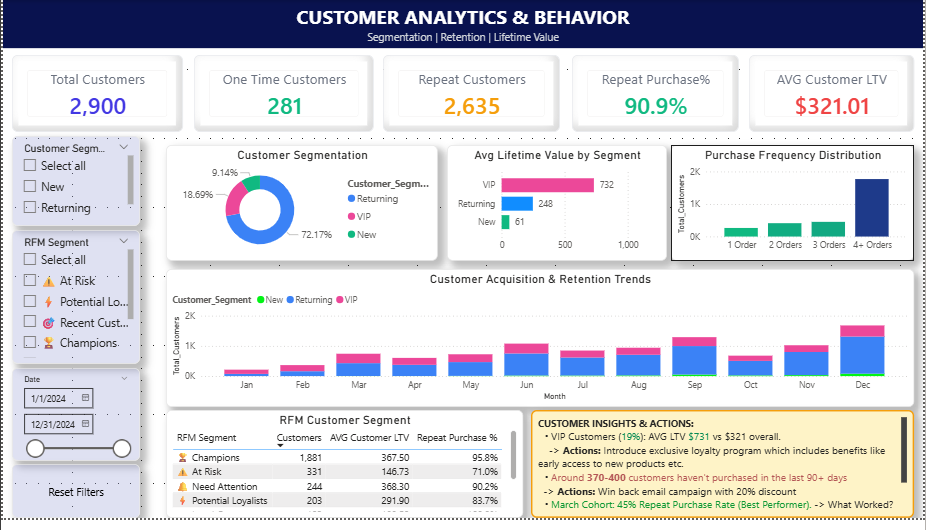

This screenshot's page, from the dashboard's own definition file:
{"tool":"powerbi","page":{"name":"Customer Analytics","canvas":[1280,720],"ordinal":2},"visuals":[{"type":"textbox","box":[0,0,1280,66.8],"z":0},{"type":"cardVisual","fields":{"Data":["Measures (3).Repeat_Purchase_Rate"]},"box":[791.7,76.5,232.3,107.1],"z":1000},{"type":"cardVisual","fields":{"Data":["Measures (3).Total_Customers"]},"box":[12.5,76.5,237.9,107.1],"z":2000},{"type":"cardVisual","fields":{"Data":["Measures (3).One_Time_Customers"]},"box":[265.7,76.5,250.4,107.1],"z":3000},{"type":"cardVisual","fields":{"Data":["Measures (3).Repeat_Customers"]},"box":[528.7,76.5,246.3,107.1],"z":4000},{"type":"cardVisual","fields":{"Data":["Measures (3).Customer_LTV"]},"box":[1037.9,76.5,229.6,107.1],"z":5000},{"type":"donutChart","title":"Customer Segmentation","fields":{"Category":["customers.Customer_Segment"],"Y":["Measures (3).Total_Customers"]},"box":[226.8,201.7,378.4,161.4],"z":6000},{"type":"clusteredBarChart","title":"Avg Lifetime Value by Segment","fields":{"Category":["customers.Customer_Segment"],"Y":["Measures (3).Avg_LTV_by_Segment"]},"box":[617.7,201.7,306.1,161.4],"z":7000},{"type":"clusteredColumnChart","title":"Purchase Frequency Distribution","fields":{"Category":["customers.Order_Count_Bucket"],"Y":["Measures (3).Total_Customers"]},"box":[929.4,201.7,338.1,161.4],"z":8000},{"type":"columnChart","title":"Customer Acquisition & Retention Trends","fields":{"Category":["Calendar.Month"],"Y":["Measures (3).Total_Customers"],"Series":["customers.Customer_Segment"]},"box":[226.8,370.1,1040.7,192],"z":9000},{"type":"tableEx","title":"RFM Customer Segment","fields":{"Values":["customers.RFM_Segment","Measures (3).Total_Customers","Measures (3).Avg_LTV_by_Segment","Measures (3).Repeat_Purchase_Rate"]},"box":[226.8,570.4,496.7,150.3],"z":10000},{"type":"slicer","fields":{"Values":["customers.Customer_Segment"]},"box":[12.5,201.7,153,108.5],"z":11000},{"type":"slicer","fields":{"Values":["customers.RFM_Segment"]},"box":[12.5,327,153,109.9],"z":12000},{"type":"slicer","fields":{"Values":["Calendar.Date"]},"box":[12.5,445.2,153,119.7],"z":13000},{"type":"actionButton","title":"Reset Filter","box":[12.5,576,153,108.5],"z":14000},{"type":"textbox","box":[736,570.4,531.5,150.3],"z":15000}]}

Visuals, with their boxes in screenshot pixels (x1, y1, x2, y2), scaled from the page's 1280x720 canvas onto the 926x530 screenshot:
textbox: pyautogui.locateOnScreen(0, 0, 925, 49)
cardVisual - Measures (3).Repeat_Purchase_Rate: pyautogui.locateOnScreen(573, 56, 741, 135)
cardVisual - Measures (3).Total_Customers: pyautogui.locateOnScreen(9, 56, 181, 135)
cardVisual - Measures (3).One_Time_Customers: pyautogui.locateOnScreen(192, 56, 373, 135)
cardVisual - Measures (3).Repeat_Customers: pyautogui.locateOnScreen(382, 56, 561, 135)
cardVisual - Measures (3).Customer_LTV: pyautogui.locateOnScreen(751, 56, 917, 135)
"Customer Segmentation" donutChart: pyautogui.locateOnScreen(164, 148, 438, 267)
"Avg Lifetime Value by Segment" clusteredBarChart: pyautogui.locateOnScreen(447, 148, 668, 267)
"Purchase Frequency Distribution" clusteredColumnChart: pyautogui.locateOnScreen(672, 148, 917, 267)
"Customer Acquisition & Retention Trends" columnChart: pyautogui.locateOnScreen(164, 272, 917, 414)
"RFM Customer Segment" tableEx: pyautogui.locateOnScreen(164, 420, 523, 529)
slicer - customers.Customer_Segment: pyautogui.locateOnScreen(9, 148, 120, 228)
slicer - customers.RFM_Segment: pyautogui.locateOnScreen(9, 241, 120, 322)
slicer - Calendar.Date: pyautogui.locateOnScreen(9, 328, 120, 416)
"Reset Filter" actionButton: pyautogui.locateOnScreen(9, 424, 120, 504)
textbox: pyautogui.locateOnScreen(532, 420, 917, 529)
